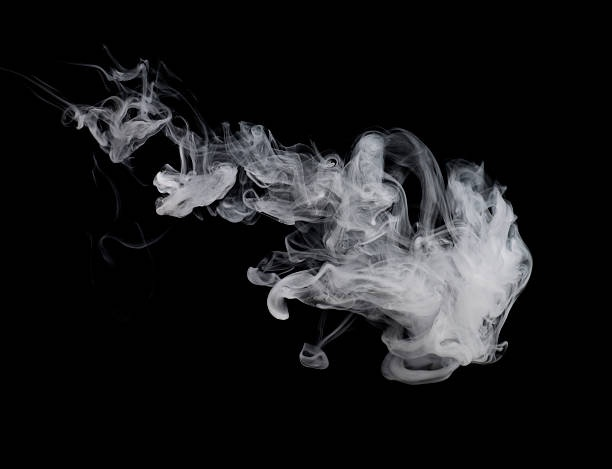smoke: (82, 75, 535, 386)
